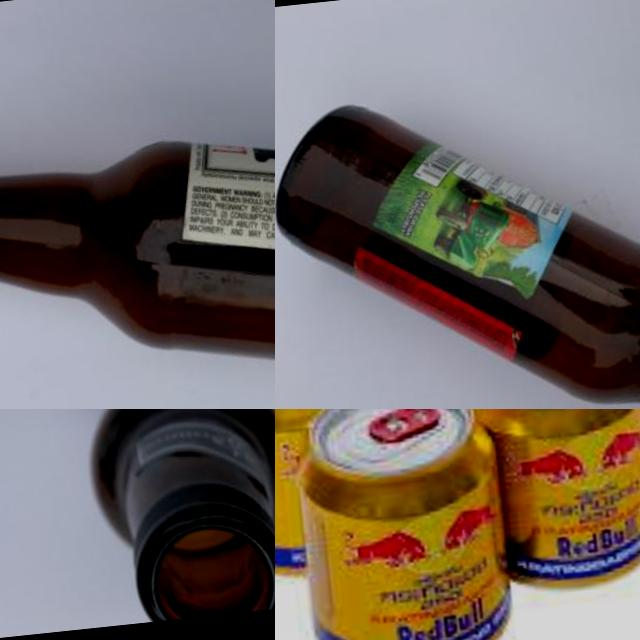garrafa de vidro: (275, 53, 640, 409), (0, 109, 275, 409), (80, 409, 275, 625)
lata: (279, 409, 517, 640), (466, 409, 640, 591), (275, 409, 399, 574)
